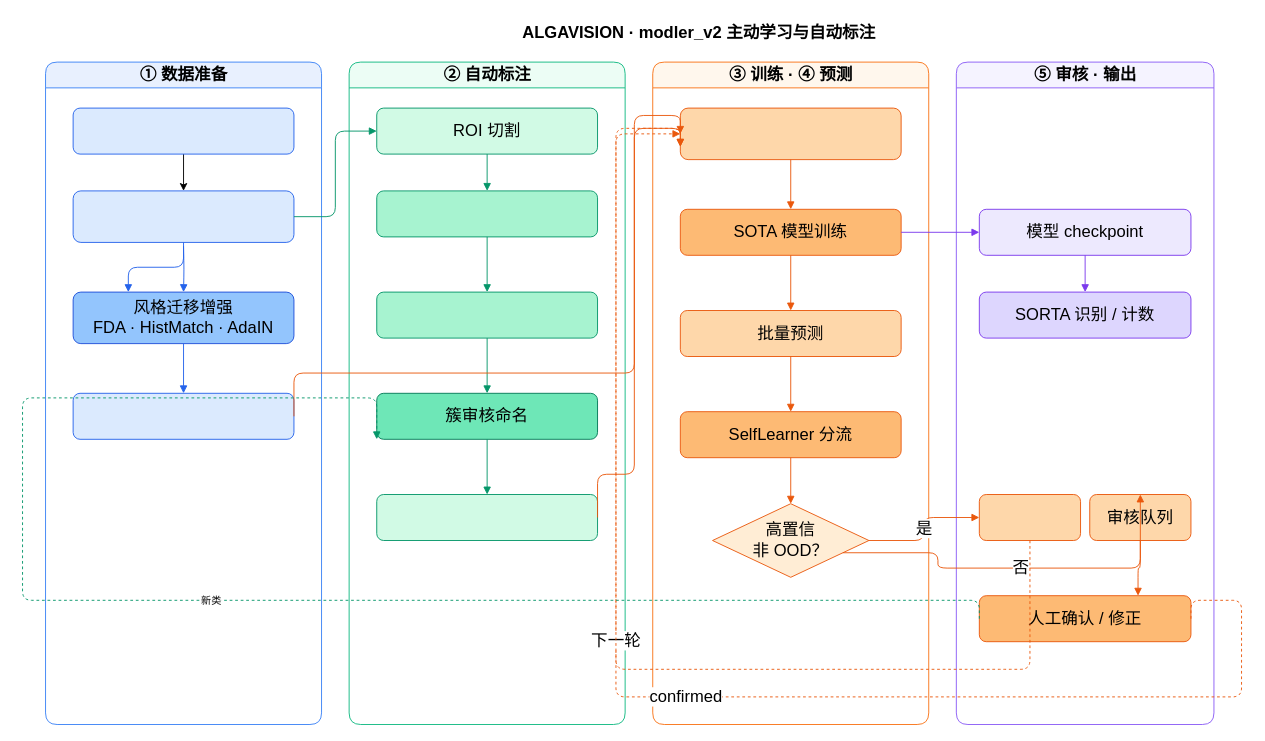
Some shapes in this 1265 by 741 pixel diagram are drawn without their labels. The shapes that lost their labels are listed below. From the top down, each one's centre as x and y in pixels, then its label:
the point at 183,130: 有标签标准照
the point at 790,133: 训练数据汇总 seed · pseudo · confirmed
the point at 183,216: 无标签目标域图像 FlowCAM / 显微镜
the point at 487,213: DINOv2 特征提取
the point at 487,314: HDBSCAN 聚类
the point at 183,415: 种子训练集
the point at 487,517: 自动标注集
the point at 1029,517: 伪标签归档
